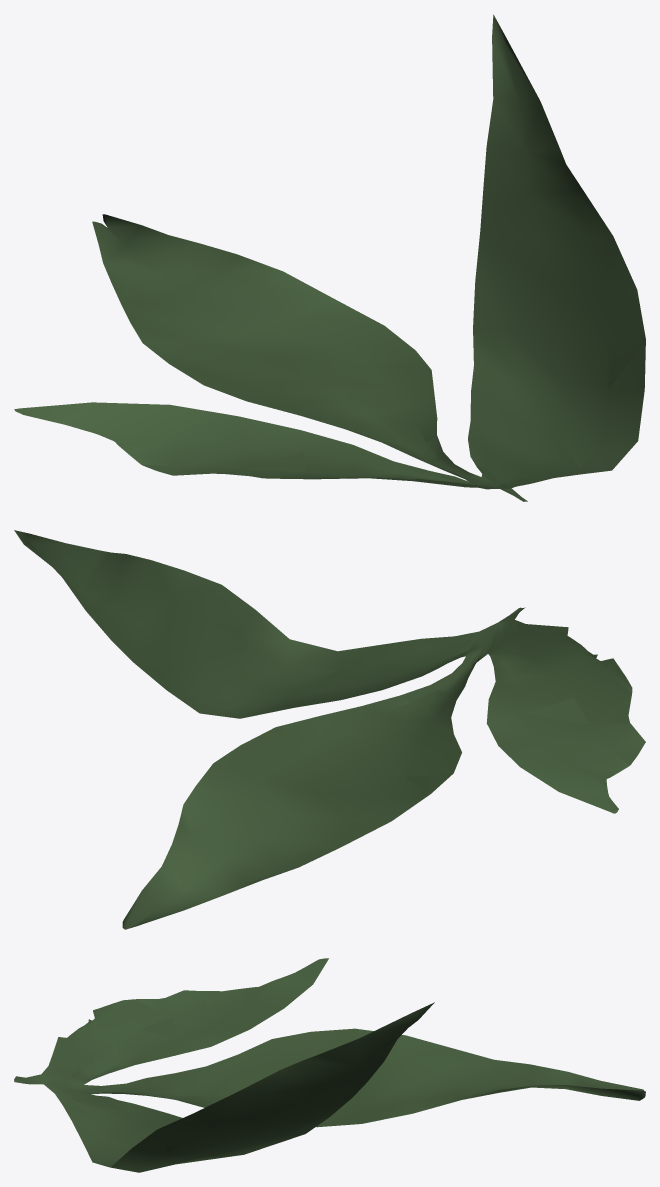
The model's file is trees-leaves-leaf-cluster_v5.glb.
3 renders of one model, top to bottom at view 1: azimuth 30°, elevation 25°; view 2: azimuth 150°, elevation 25°; view 3: azimuth 270°, elevation 25°, orthographic. The views are drawn at different scales.
Parts seen in each view (by area): view 1: Leaf Cluster_v5; view 2: Leaf Cluster_v5; view 3: Leaf Cluster_v5.
Part boxes in pixels (bbox=[...]): Leaf Cluster_v5: bbox=[14, 14, 645, 501]; Leaf Cluster_v5: bbox=[14, 530, 645, 929]; Leaf Cluster_v5: bbox=[14, 958, 645, 1172].
Size of the model in its own units: 0.1142 by 0.0533 by 0.15.
